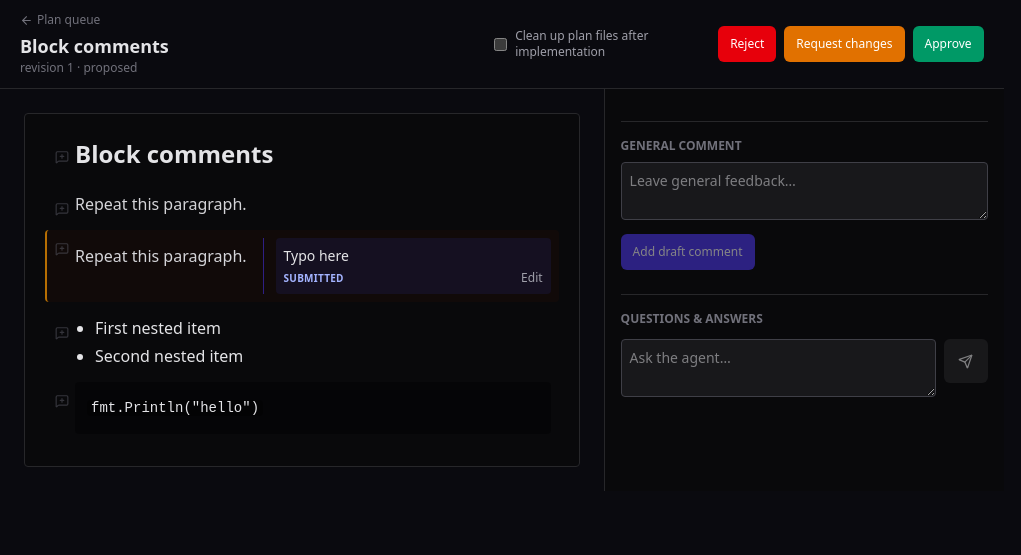
PlanPage block comments › edits an anchored comment without changing its lifecycle
The image size is (1021, 555).
Click the button with aria-label "Edit comment" at (532, 278), box [521,270,543,286]
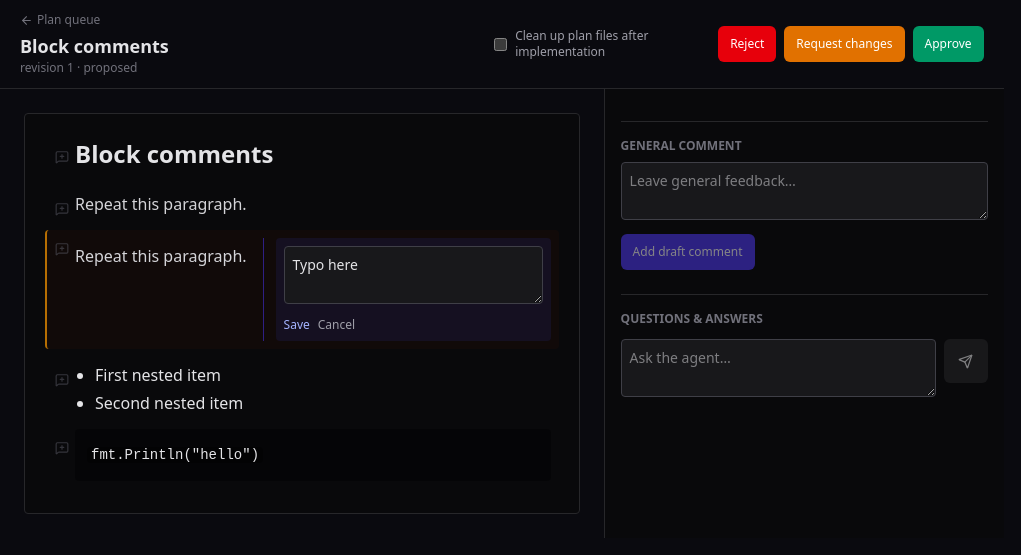
Replace the text in the text box named "Edit comment" with "Fixed wording" at (413, 275), box [284,246,543,304]
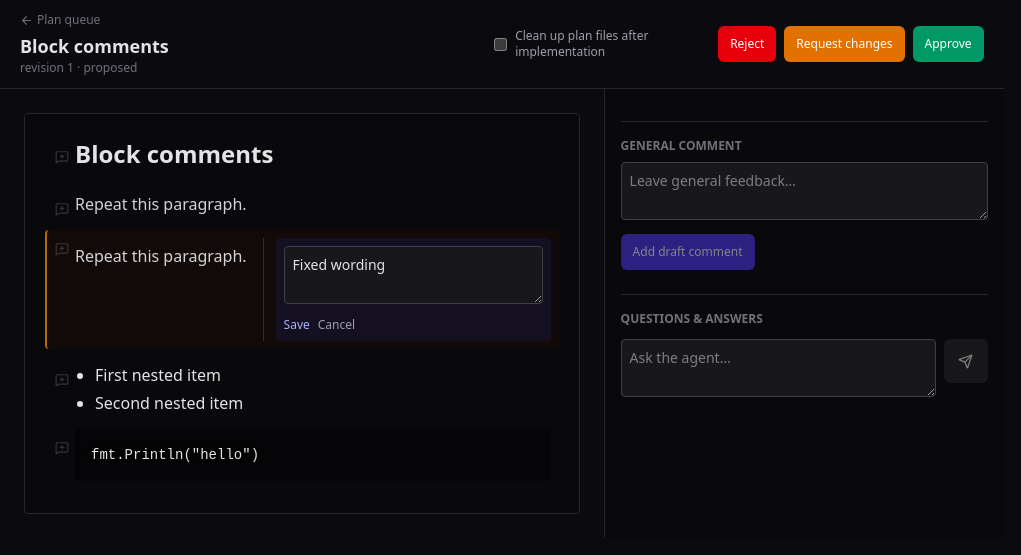
Press Enter in the text box named "Edit comment", box [284,246,543,304]
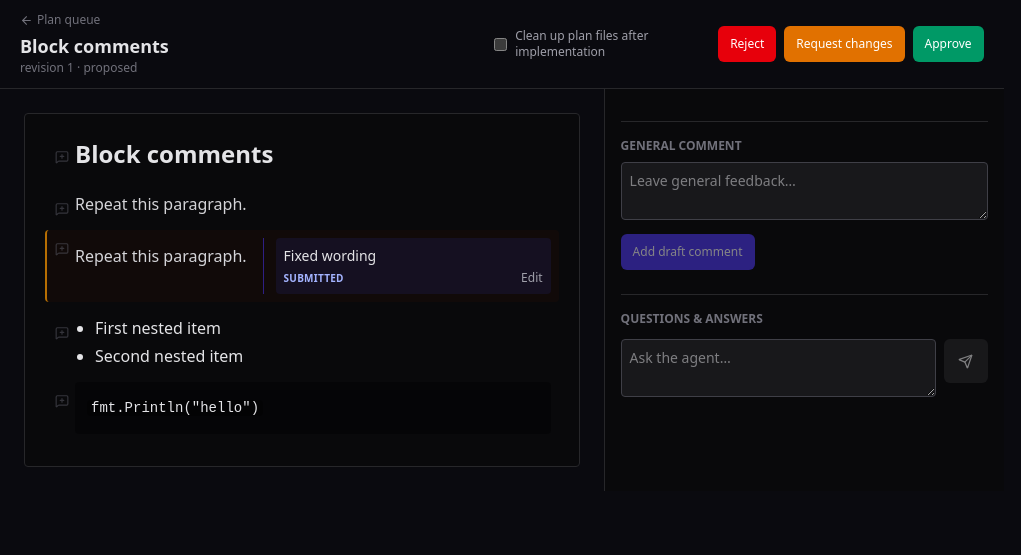
Expected: the text "Submitted" is shown, [284,271,344,285]
Expected: the text "Fixed wording" is shown, [284,246,376,265]
